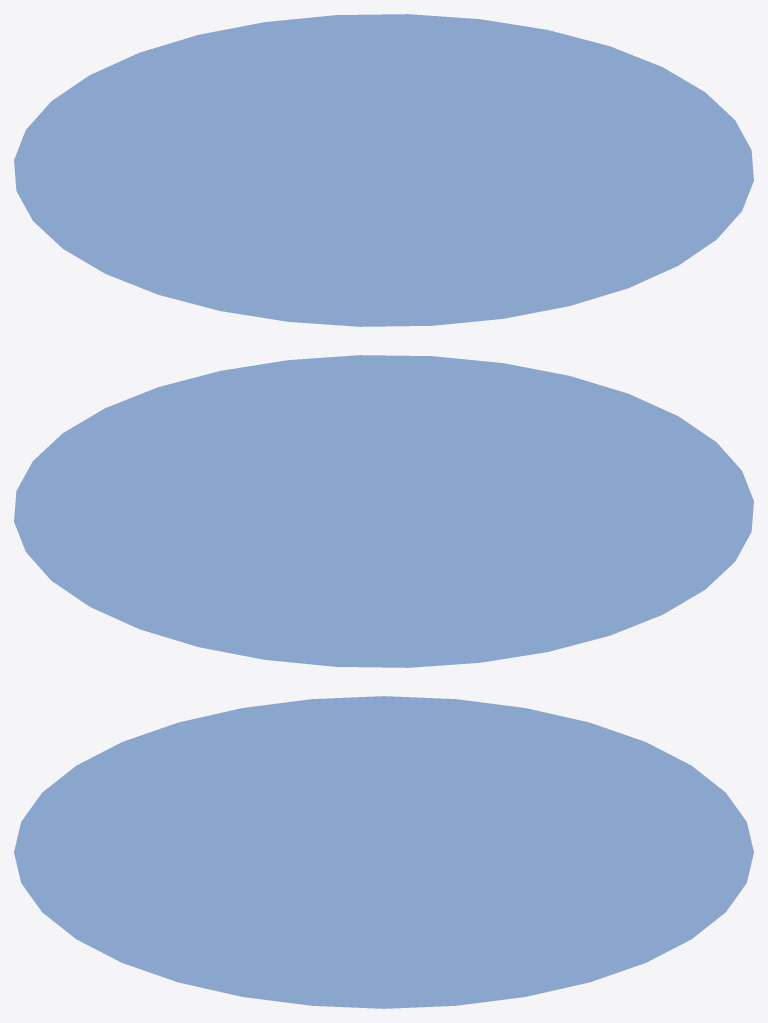
Rendered from Ground_Inner.fbx.
3 renders of one model, top to bottom at view 1: azimuth 30°, elevation 25°; view 2: azimuth 150°, elevation 25°; view 3: azimuth 270°, elevation 25°, orthographic.
Parts seen in each view (by area): view 1: Ground_Inner; view 2: Ground_Inner; view 3: Ground_Inner.
Boxes of the visible parts, x1,y1,x2,y2 form: Ground_Inner: (14,14,753,326); Ground_Inner: (14,355,753,667); Ground_Inner: (14,696,753,1008).
Bounding box in the file's own units: 4031 × 0 × 4031.
